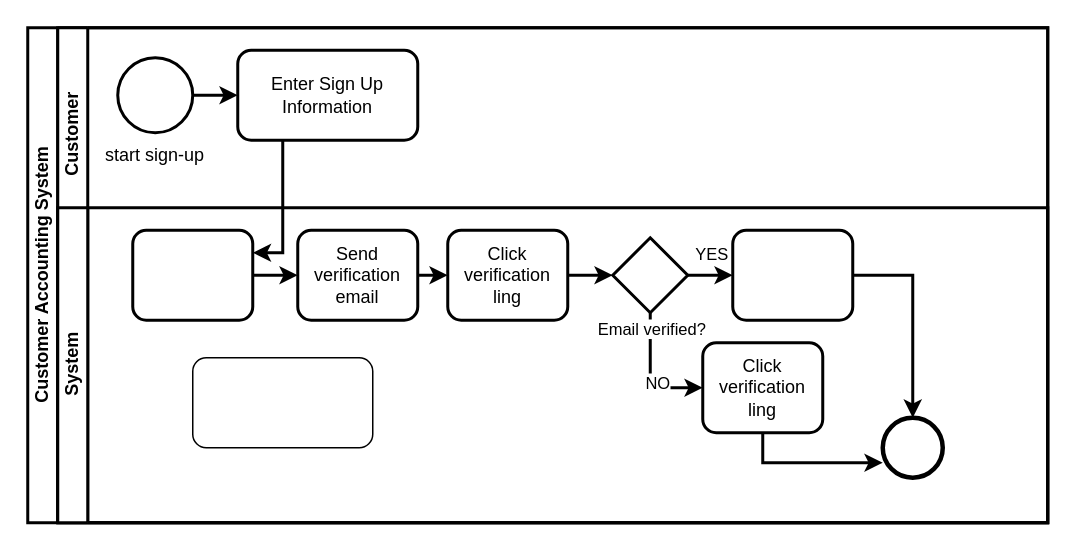
This 1074x549 diagram has some shape labels left out. Each missing label, with the centre of its shape:
"Activate account" goes at (x=792, y=274).
"Create user account" goes at (x=192, y=274).
"TYO STANISLAV I25B" goes at (x=282, y=402).
